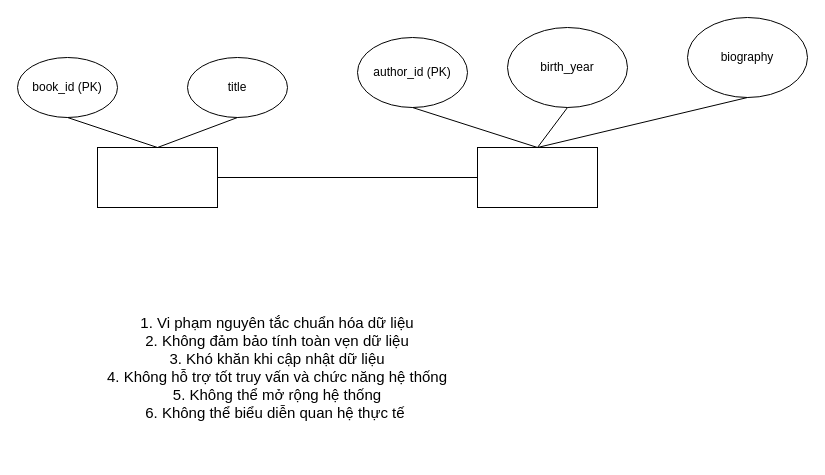
This 825x475 diagram has some shape labels left out. The shapes that lost their labels are listed below. From the top down, each one's box as (x1, y1, x2, y2) in pixels, then its label:
(96, 146, 218, 208): BOOKS
(476, 146, 598, 208): AUTHORS
